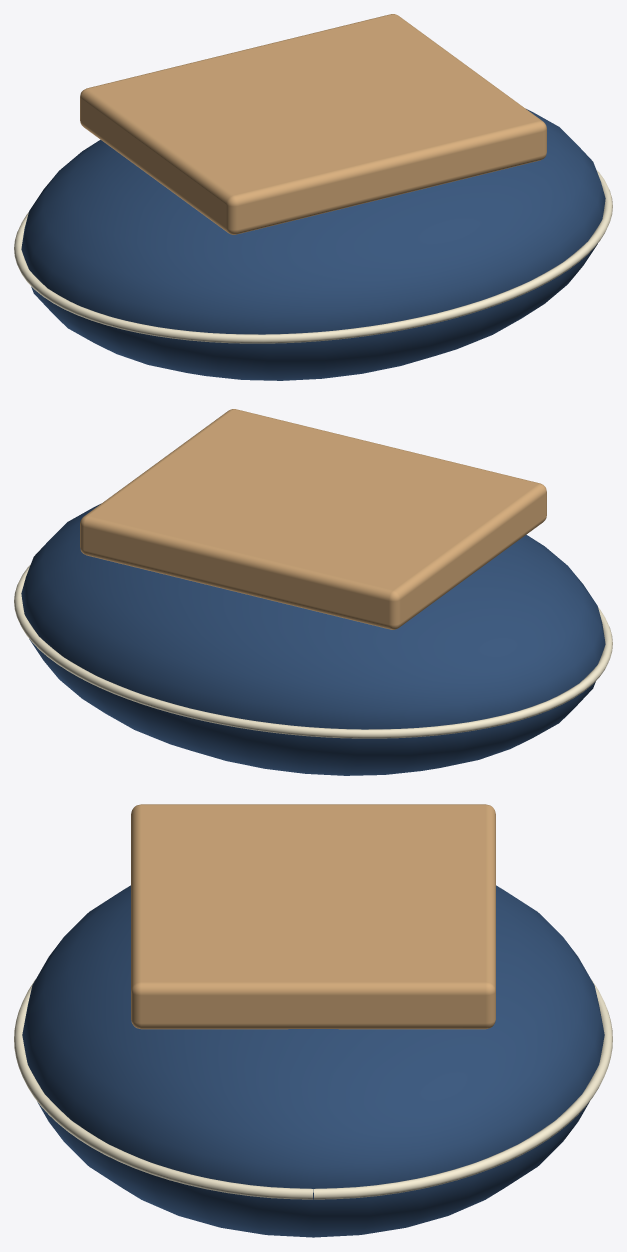
Rendered from fantasy-cartographers-map-printing-guild-engraving-san-a8b61bee__32248.glb.
3 renders of one model, top to bottom at view 1: azimuth 30°, elevation 25°; view 2: azimuth 150°, elevation 25°; view 3: azimuth 270°, elevation 25°, orthographic. The views are drawn at different scales.
Visible parts, largest first — view 1: engraving-sandbag-cradle; view 2: engraving-sandbag-cradle; view 3: engraving-sandbag-cradle.
Boxes of the visible parts, x1,y1,x2,y2 form: engraving-sandbag-cradle: (14,14,612,380); engraving-sandbag-cradle: (14,409,612,775); engraving-sandbag-cradle: (14,804,612,1237).
Size of the model in its own units: 0.51 by 0.205 by 0.41.
